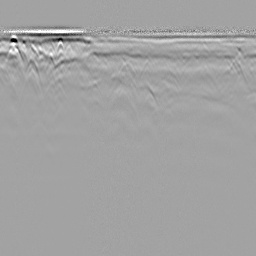cavity: (118, 59, 136, 77)
